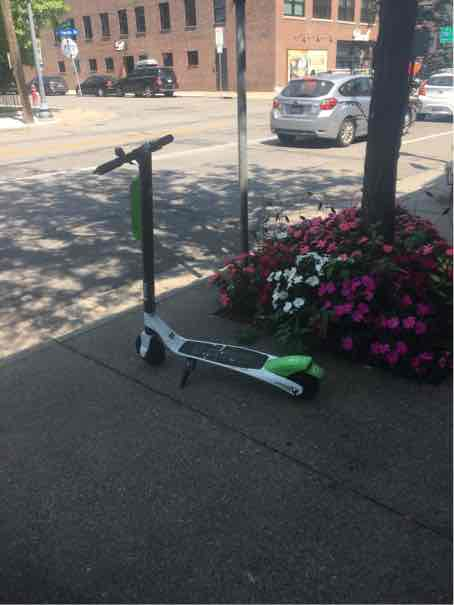scooter: (82, 127, 330, 410)
